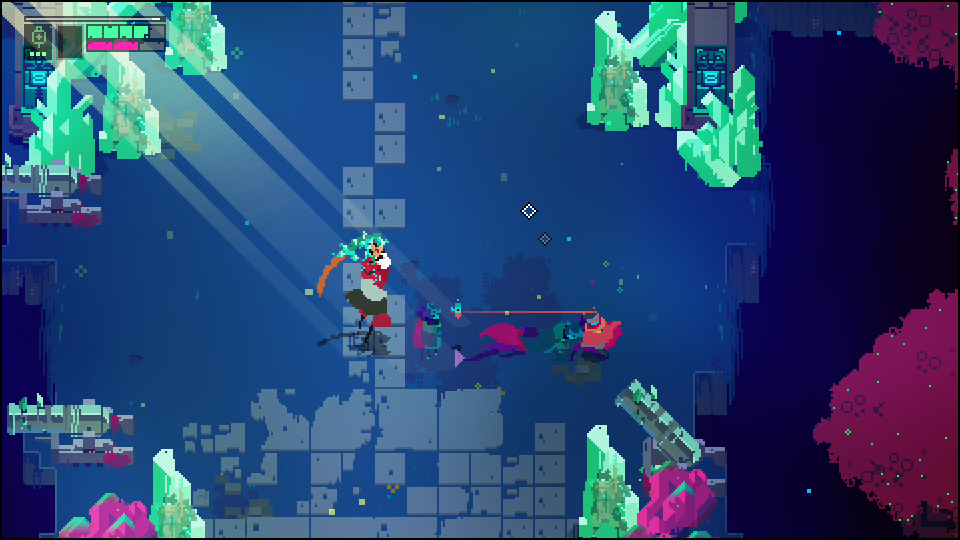hanged_man: (331, 223, 396, 344)
player: (569, 304, 623, 359)
